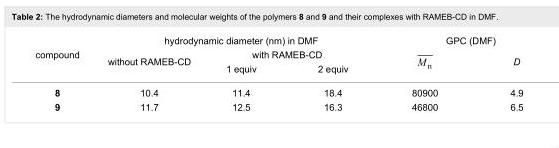table: (34, 34, 522, 111)
table column: (92, 34, 207, 111), (379, 34, 473, 111), (286, 34, 379, 111), (207, 34, 286, 111), (34, 34, 92, 111), (473, 34, 522, 111)
table row: (34, 61, 522, 80), (34, 80, 522, 99), (34, 47, 522, 61), (34, 34, 522, 47), (34, 99, 522, 111)
table spanning cell: (92, 47, 207, 80), (92, 34, 379, 47), (34, 34, 92, 80), (207, 47, 379, 61), (379, 34, 522, 47), (473, 47, 522, 80)
